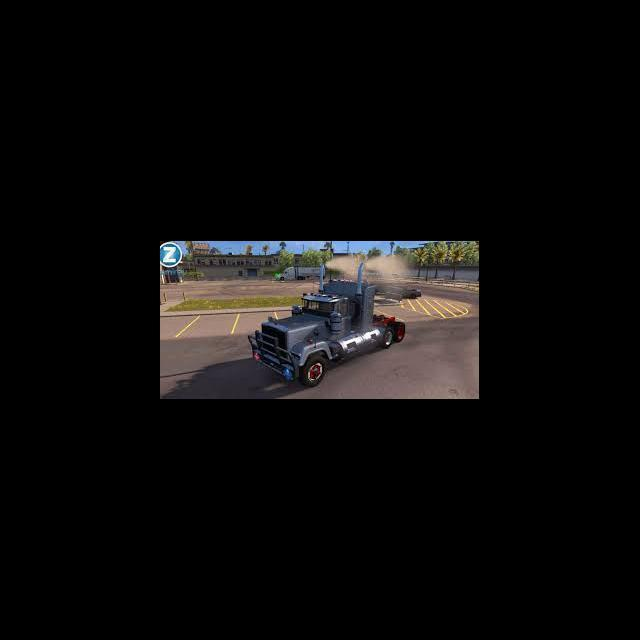Smoke: (366, 252, 407, 276), (327, 254, 356, 274)
